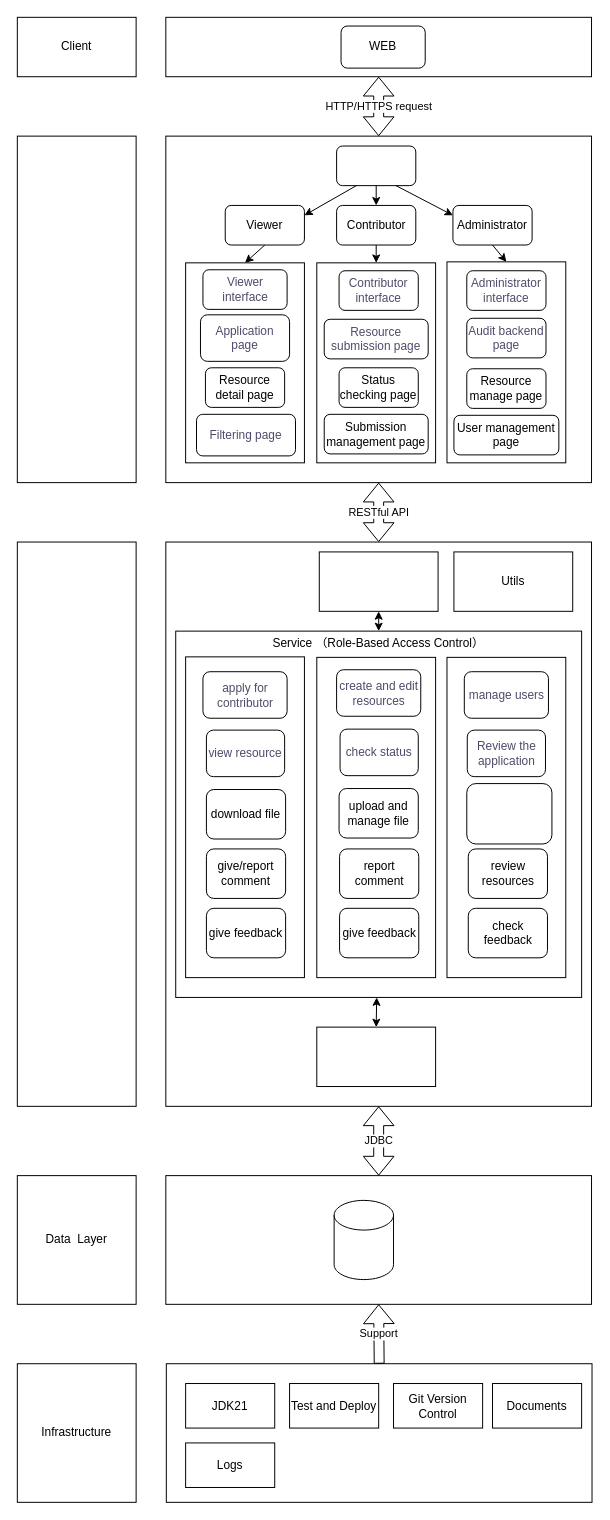
This 610x1520 diagram has some shape labels left out. The shapes that lost their labels are listed below. From the top down, each one's centre as x and y in pixels, then its label:
pixel 376 165: Log in/Register
pixel 76 309: Frontend (HTML + CSS + JS)
pixel 378 581: Controller
pixel 76 823: Backend (Spring Boot + Java)
pixel 509 813: manage files/ comments/ resources
pixel 376 1056: Mapper
pixel 363 1239: MySQL
